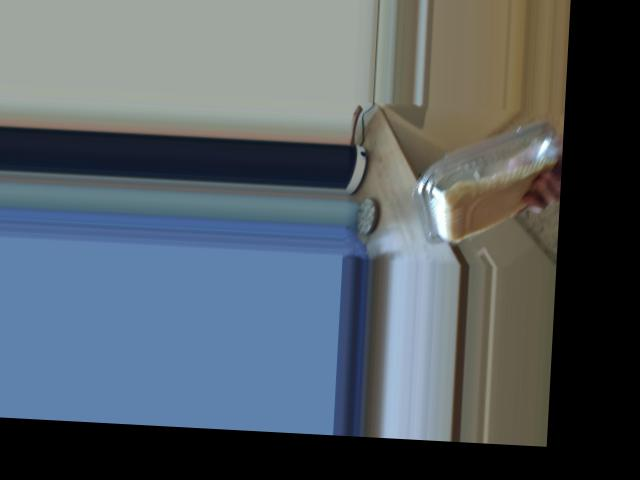cheese: (426, 136, 509, 230)
